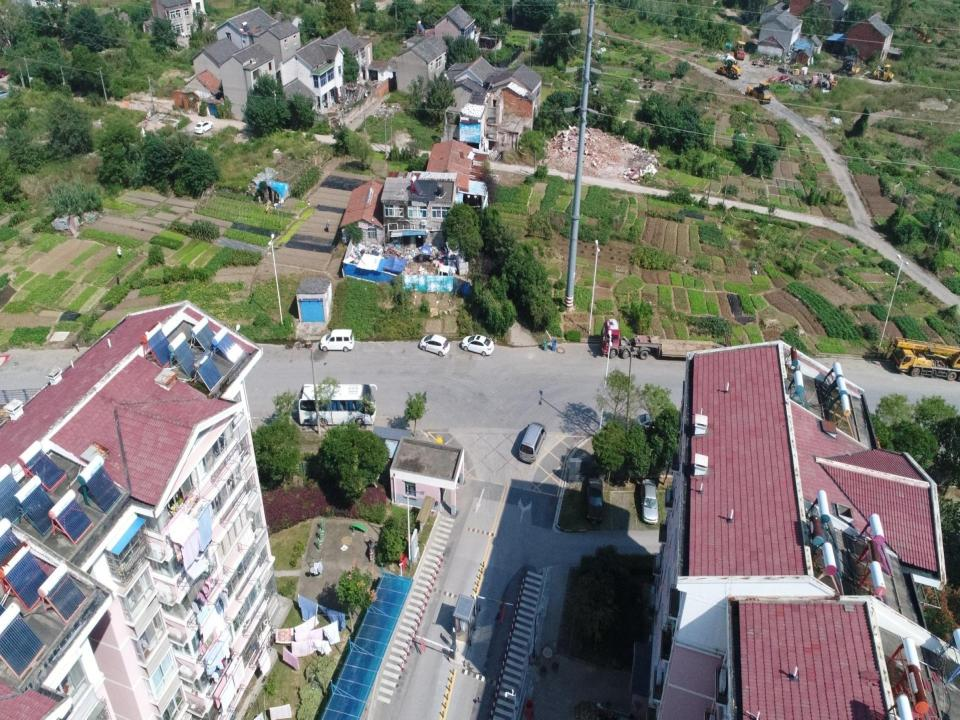bus: (298, 384, 376, 428)
car: (586, 476, 604, 526), (641, 480, 659, 526), (460, 334, 494, 356), (419, 334, 450, 357), (636, 413, 669, 433), (194, 120, 215, 134)
truck: (600, 318, 732, 368), (417, 264, 455, 284)
van: (518, 422, 546, 464), (318, 330, 356, 352)
